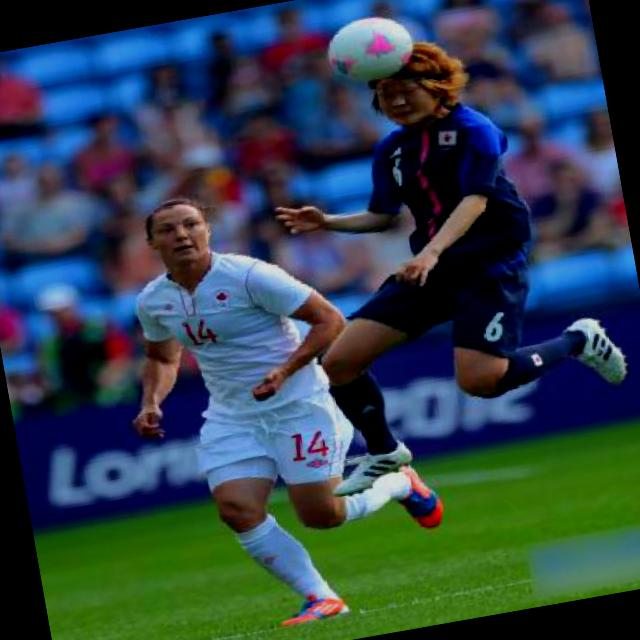Person: (238, 42, 640, 537), (65, 153, 410, 640)
